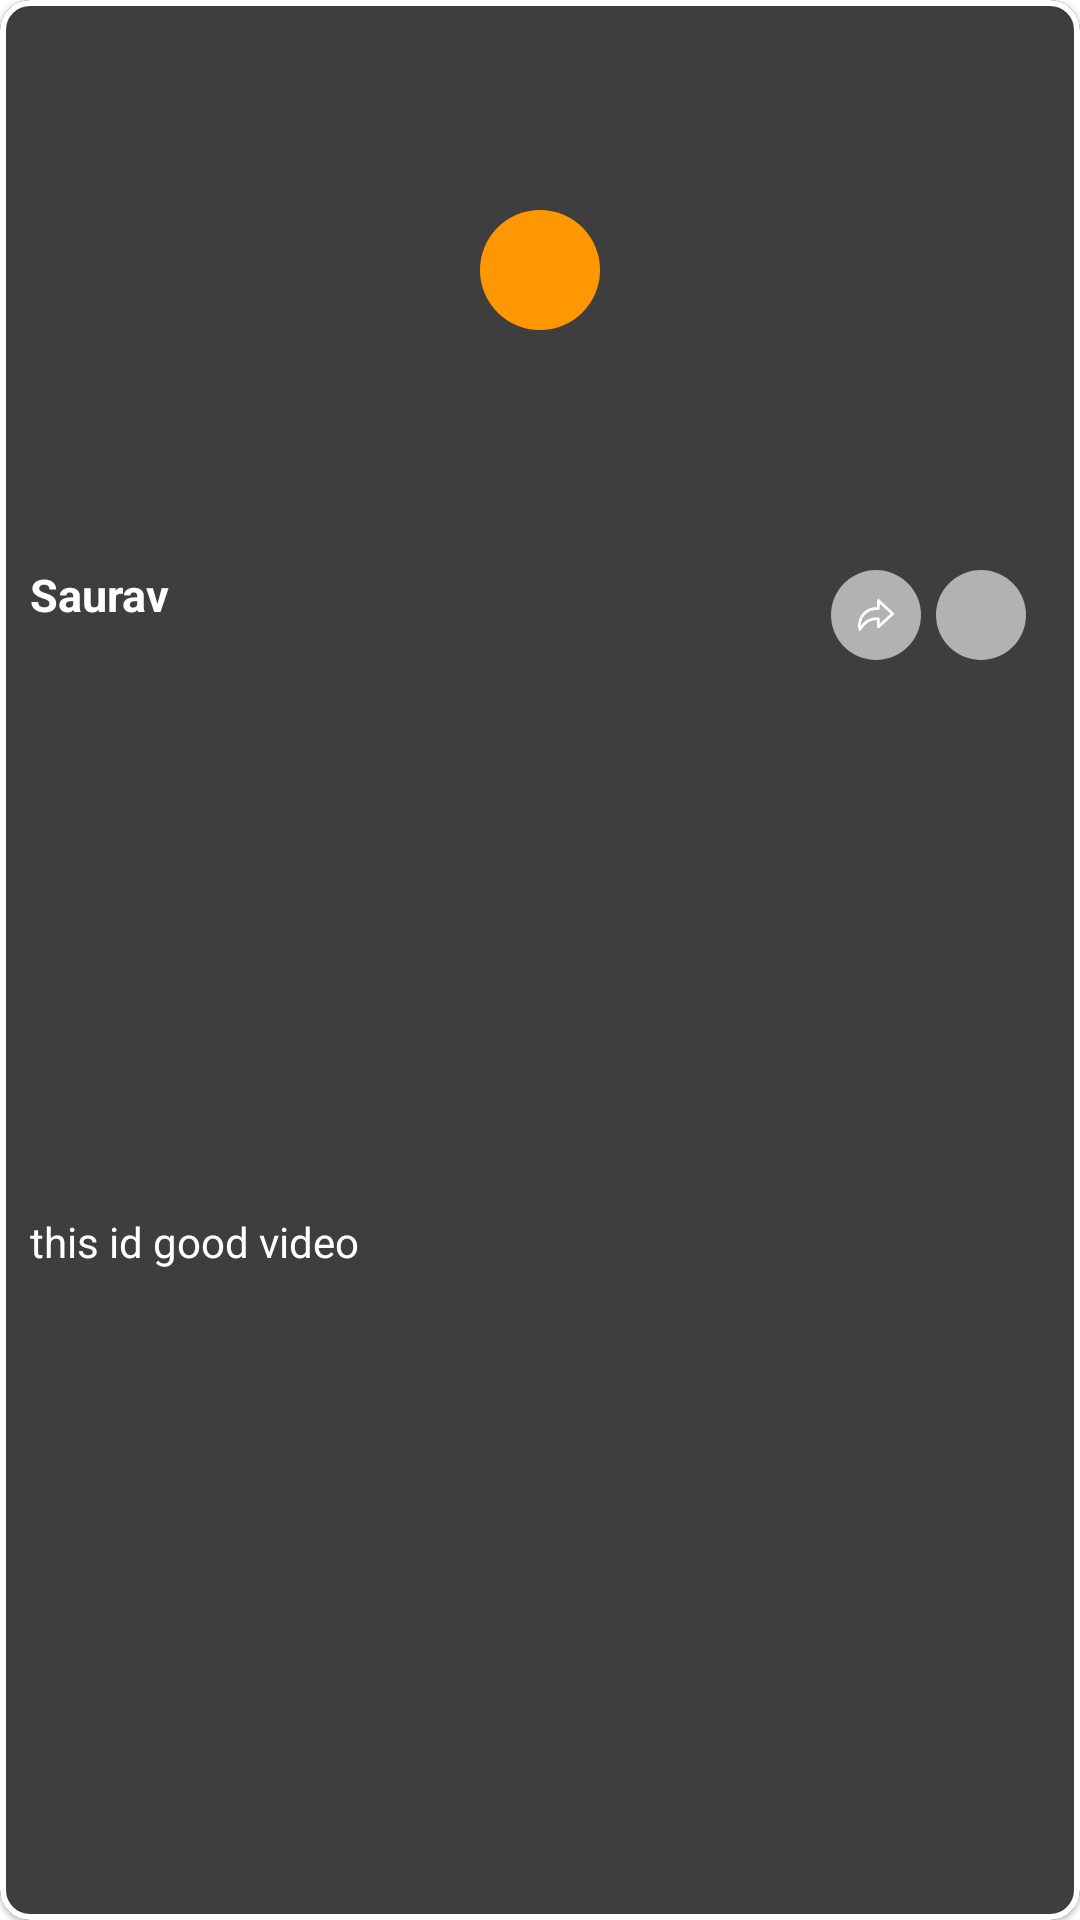

Where icons sit on this 1080w x 1920h app screen, as (x1, y1, x2, y2):
share: (831, 570, 921, 660)
